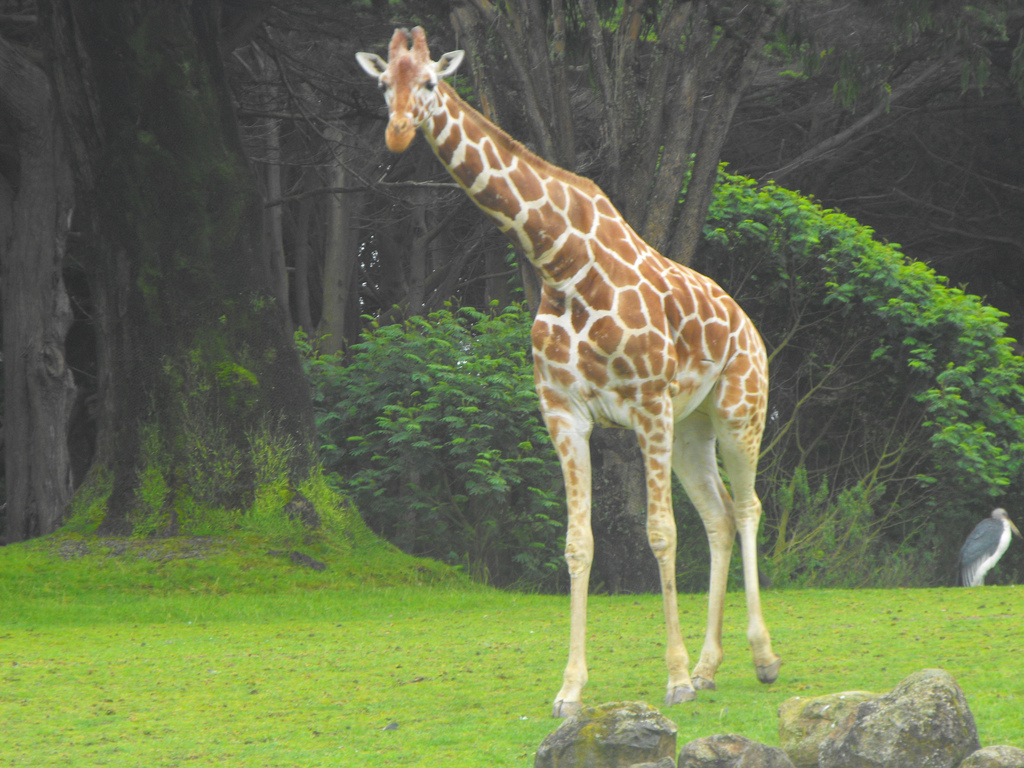giraffe: (356, 22, 850, 726)
